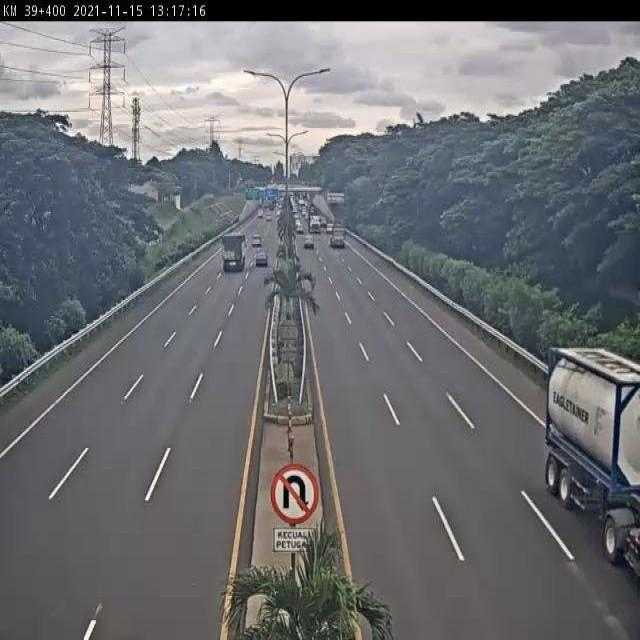car: (253, 249, 270, 268)
truck-l-: (221, 232, 250, 275)
truck-xl-: (542, 344, 640, 580)
